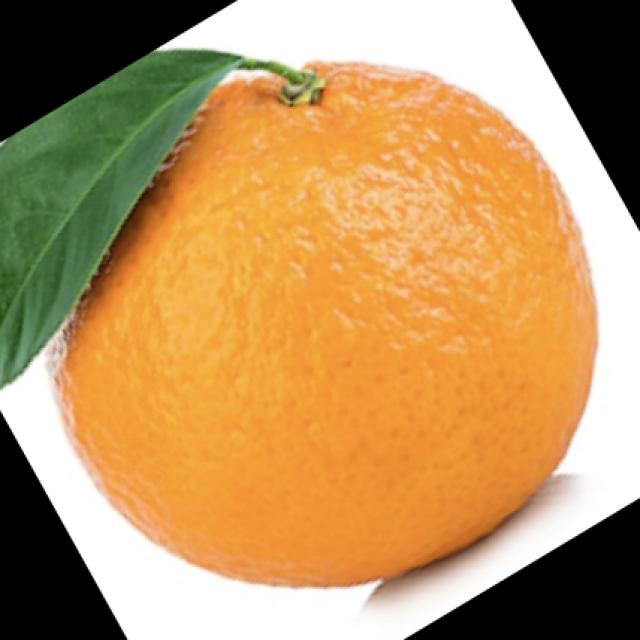fresh: (5, 0, 598, 600)
